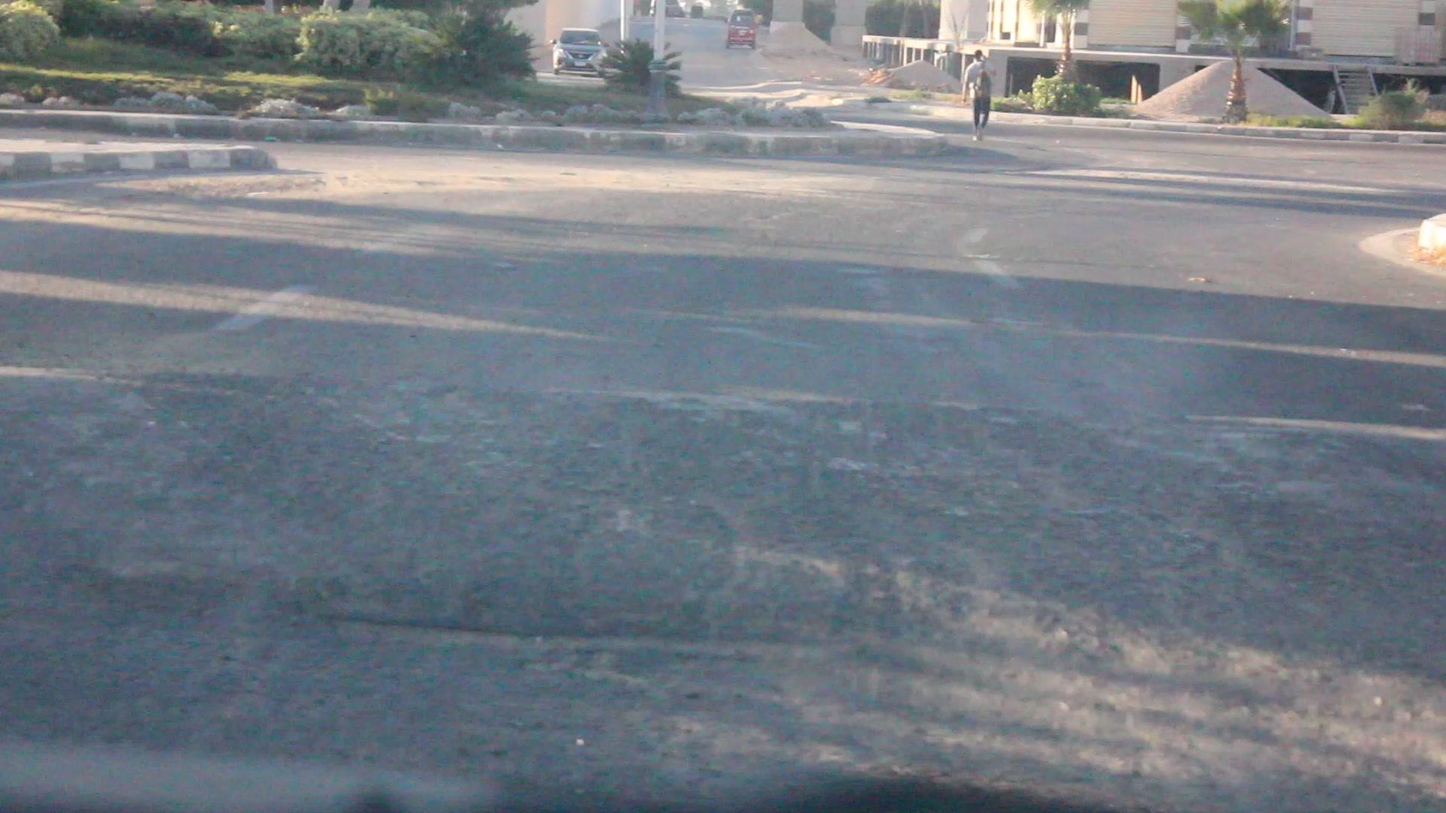Bump: (0, 363, 1446, 668)
